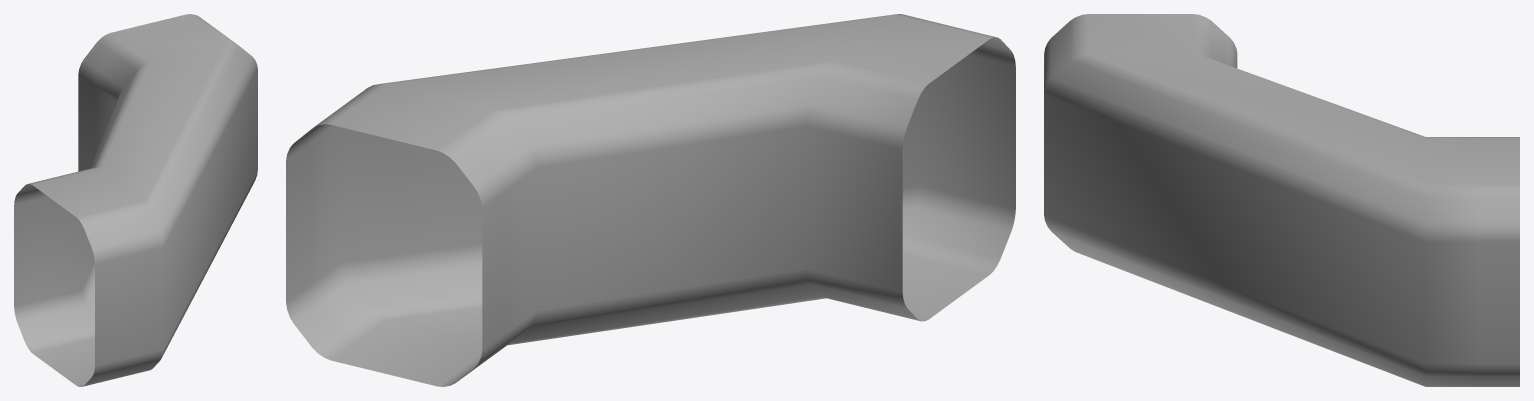
Rendered from tunul_room_to_room.fbx.
The picture shows the model from 3 angles, left to right: view 1: azimuth 30°, elevation 25°; view 2: azimuth 150°, elevation 25°; view 3: azimuth 270°, elevation 25°; orthographic projection. The views are drawn at different scales.
Visible parts, largest first — view 1: tunulroom_tunul; view 2: tunulroom_tunul; view 3: tunulroom_tunul.
Part boxes in pixels (x1,y1,x2,y2): tunulroom_tunul: [14, 14, 257, 386]; tunulroom_tunul: [286, 14, 1015, 386]; tunulroom_tunul: [1044, 14, 1519, 386].
Size of the model in its own units: 262 by 131 by 280.
1 material, 1 textured.
